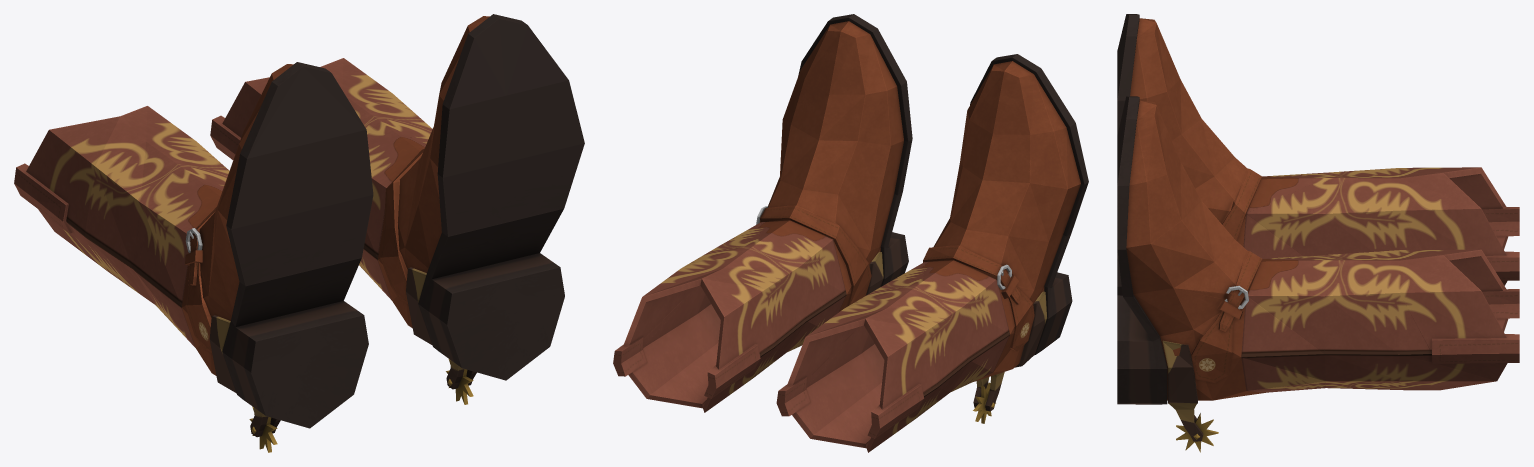
The model's file is CowboyBoots.glb.
3 renders of one model, left to right at view 1: azimuth 30°, elevation 25°; view 2: azimuth 150°, elevation 25°; view 3: azimuth 270°, elevation 25°, orthographic. The views are drawn at different scales.
Size of the model in its own units: 0.6856 by 0.7654 by 0.7855.
1 material, 1 textured.
